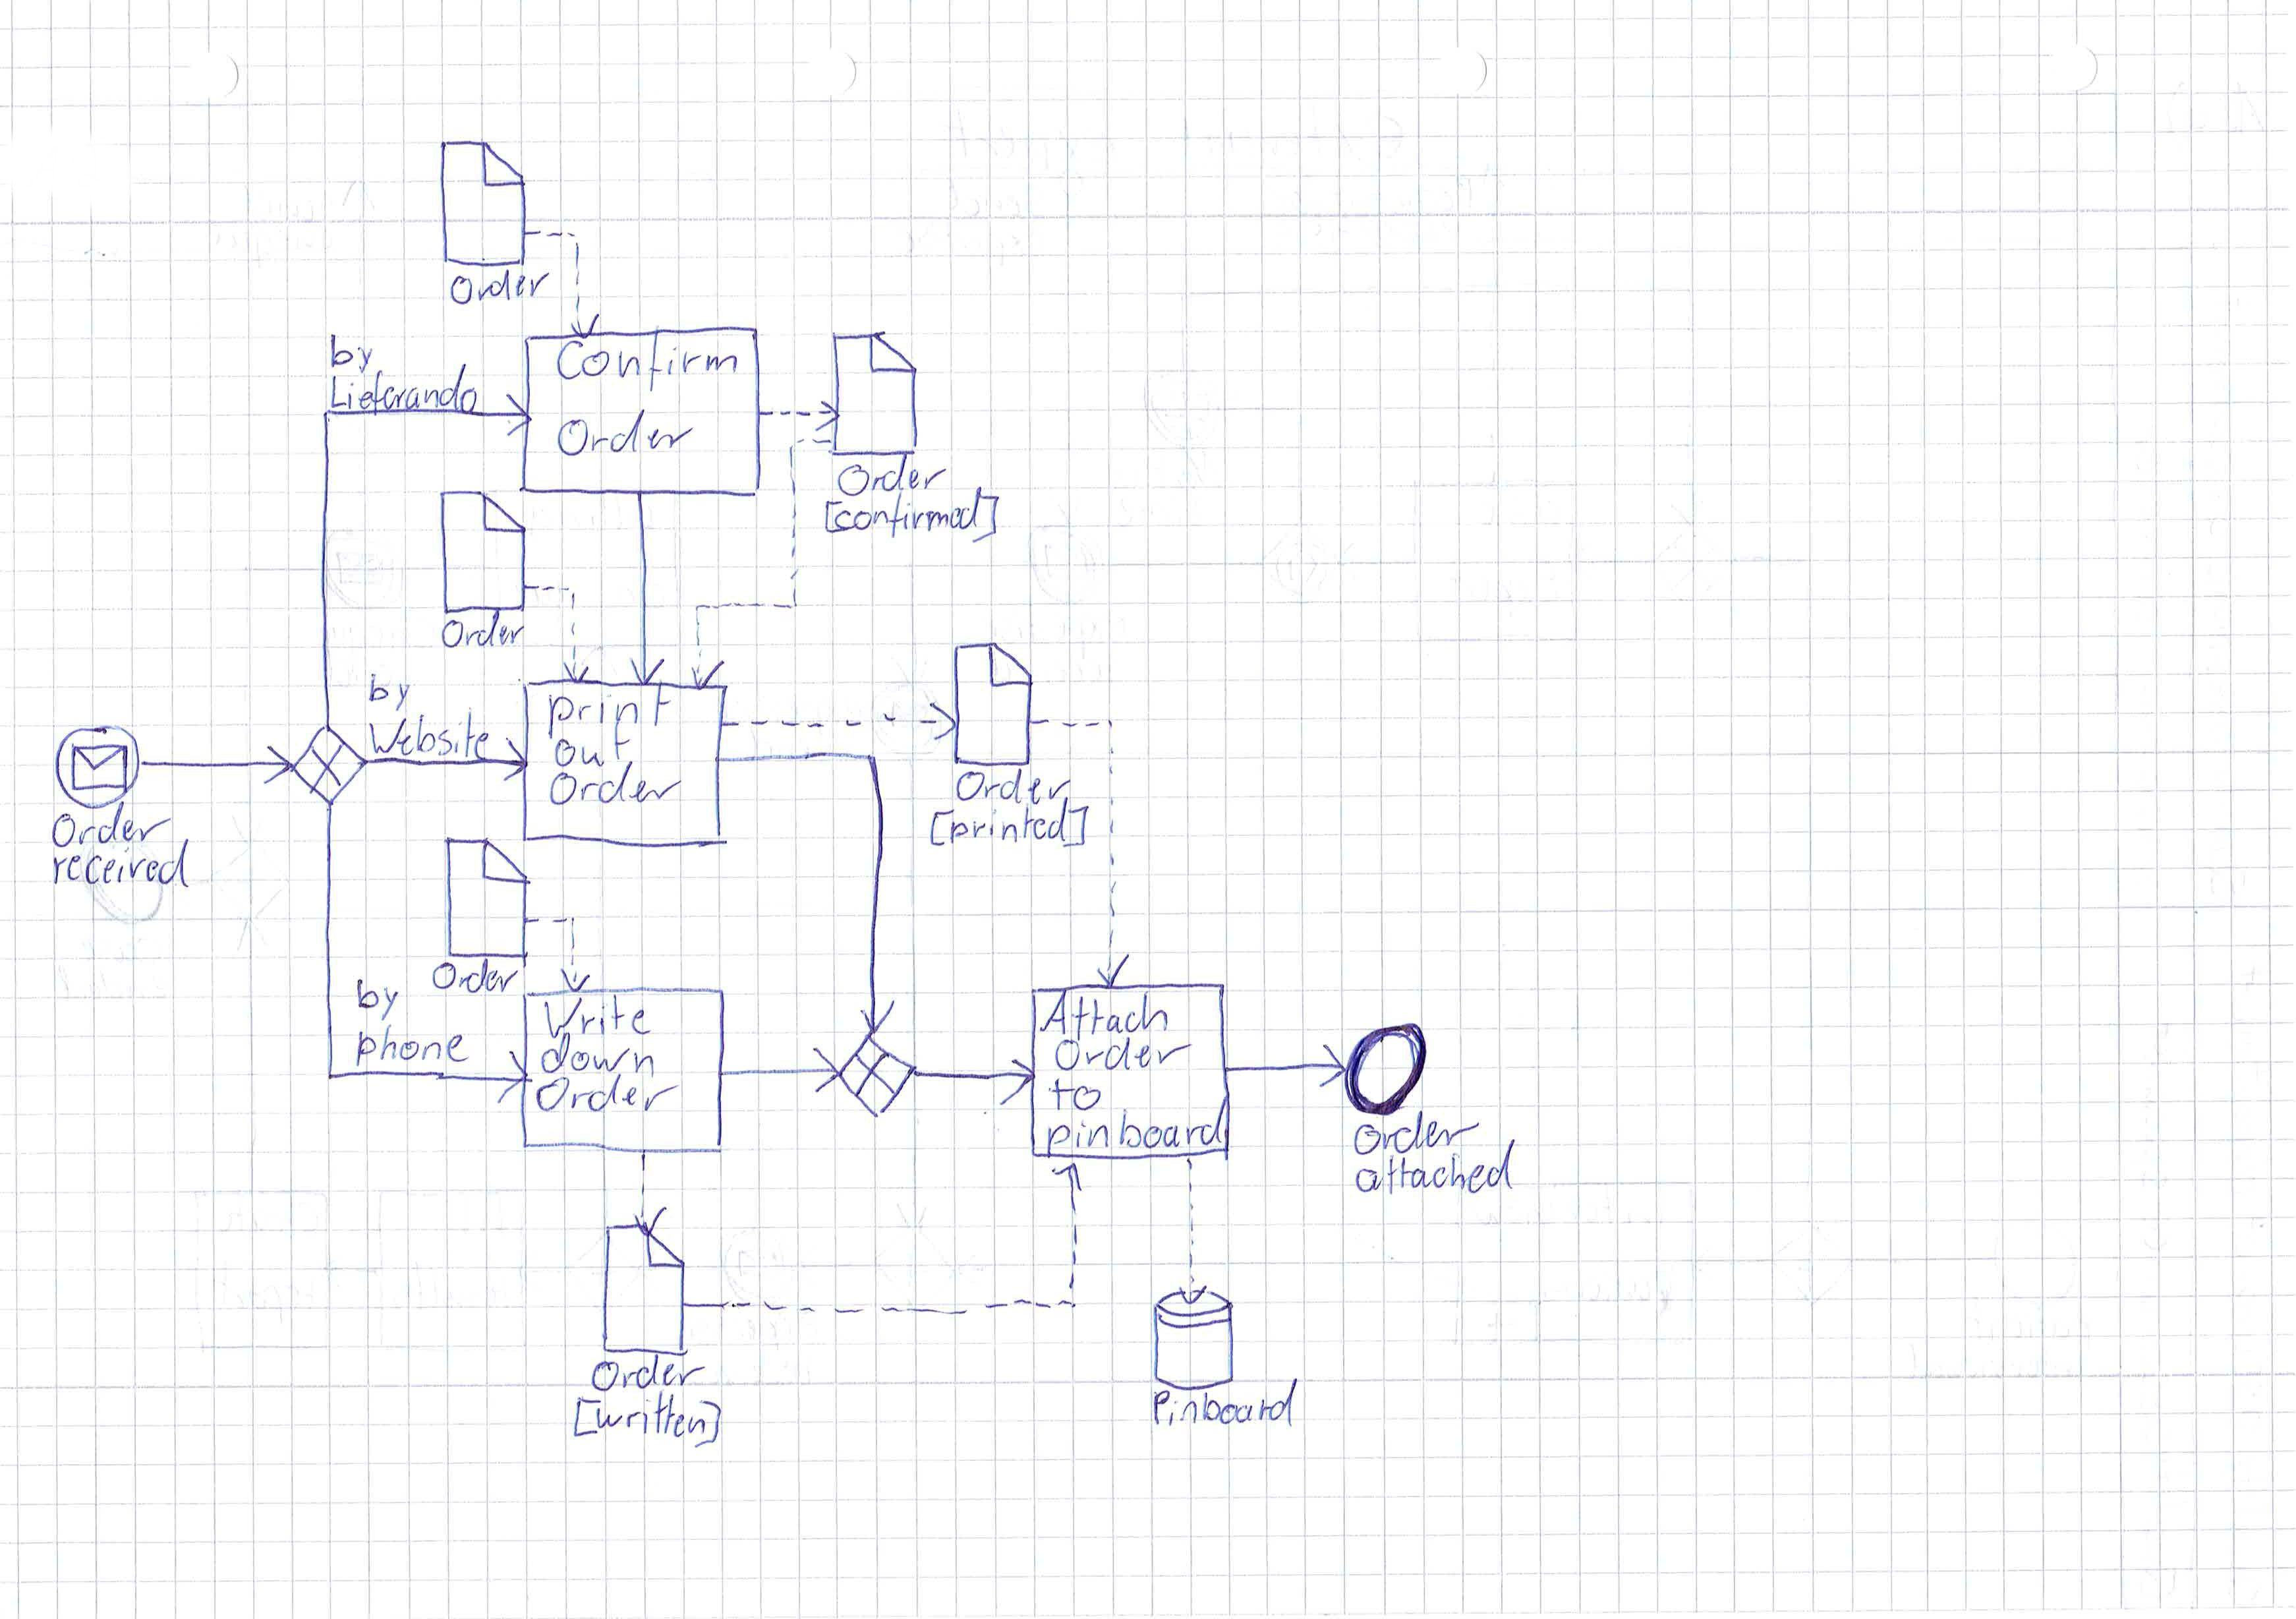Attach: (1040, 990, 1172, 1039)
Confirm: (553, 333, 741, 384)
Lieferando: (327, 364, 480, 414)
Order: (555, 410, 695, 456), (548, 762, 685, 806), (532, 1074, 683, 1111), (49, 806, 172, 850), (835, 454, 947, 498), (588, 1353, 708, 1393), (1053, 1039, 1191, 1072), (953, 767, 1072, 801), (448, 268, 552, 303), (440, 612, 527, 650), (429, 958, 518, 995)
Pinboard: (1151, 1381, 1301, 1428)
Website: (366, 711, 496, 759)
Write: (541, 993, 651, 1039)
[confirmed]: (823, 487, 1002, 538)
[printed]: (926, 802, 1093, 848)
[written]: (571, 1395, 727, 1446)
attached: (1356, 1149, 1518, 1195)
by: (329, 331, 377, 375), (354, 978, 399, 1020), (368, 673, 413, 708)
down: (539, 1034, 657, 1076)
order: (1354, 1109, 1478, 1156)
out: (552, 725, 630, 769)
phone: (354, 1027, 469, 1067)
pinboard: (1044, 1107, 1224, 1155)
print: (541, 689, 673, 736)
received: (49, 845, 193, 888)
to: (1051, 1076, 1103, 1113)
